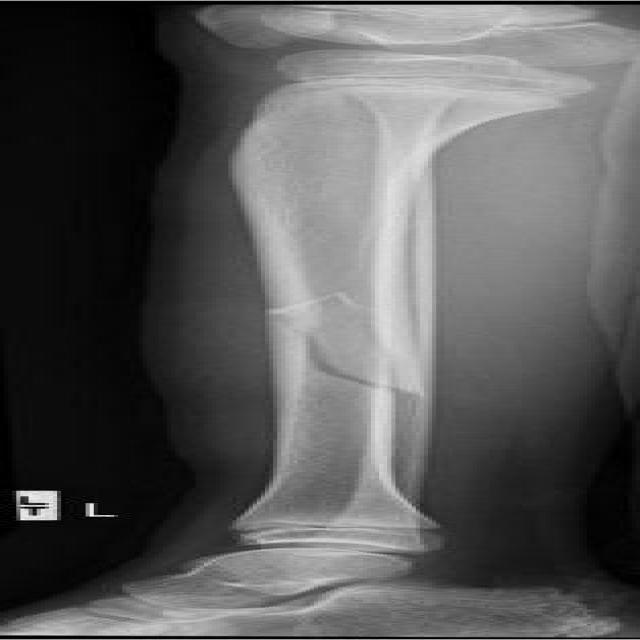Longitudinal: (178, 289, 493, 442)
